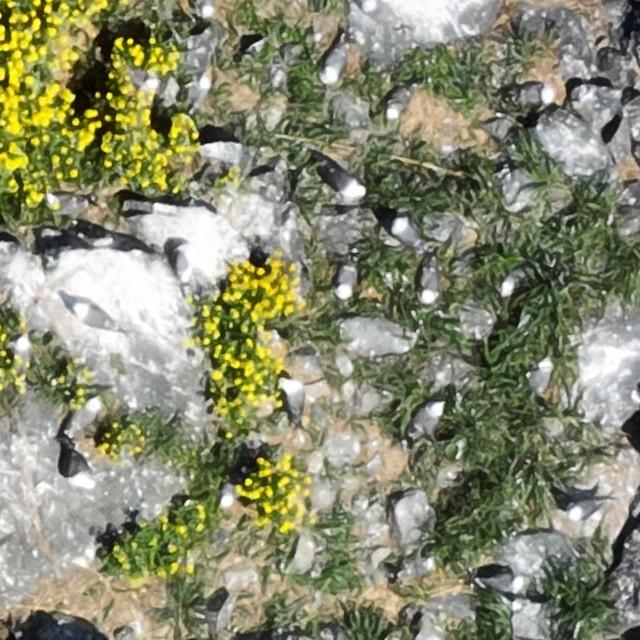umineko: (316, 153, 368, 200), (65, 441, 97, 489), (320, 39, 351, 85), (279, 376, 305, 422), (506, 84, 559, 106), (334, 260, 360, 303), (409, 401, 442, 434), (74, 304, 118, 328), (420, 258, 442, 306), (391, 219, 423, 249), (70, 400, 100, 432), (485, 573, 529, 593), (500, 266, 529, 294), (175, 242, 194, 284), (388, 86, 412, 118), (190, 76, 211, 108), (47, 194, 84, 212), (568, 500, 600, 520), (532, 360, 552, 392), (220, 481, 236, 507)
